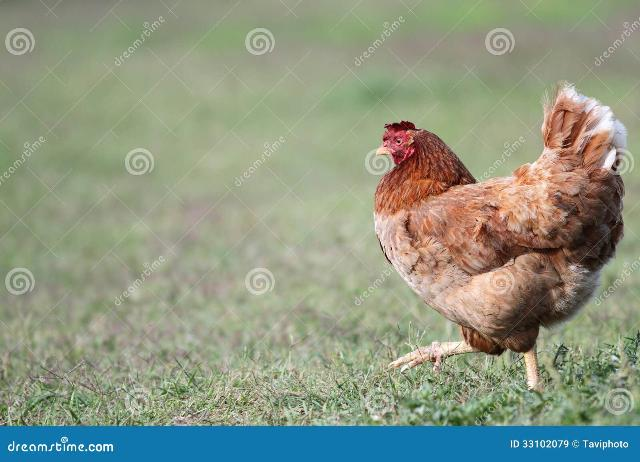Chicken: (372, 80, 625, 391)
